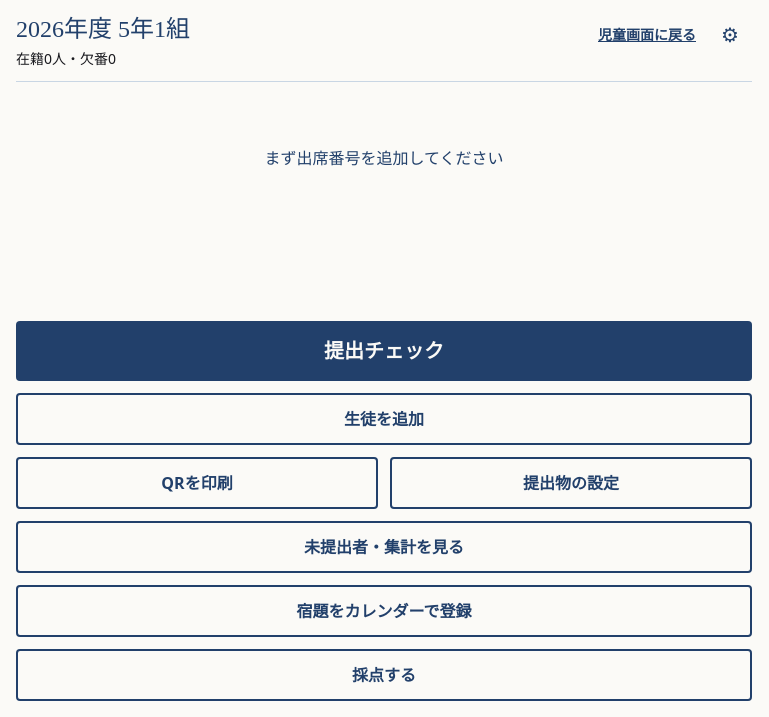
Test: 導線 › 名簿から提出物の設定に入れる
Step 1. Click the link "提出物の設定" → (571, 483), box [390,457,752,509]
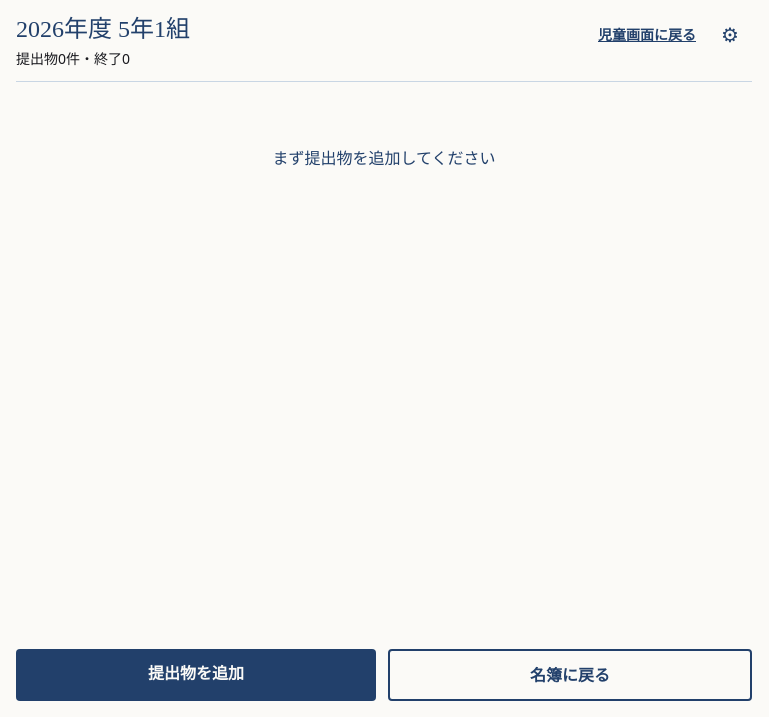
expect the text "提出物0件・終了0" is shown: met, box [16,49,130,68]
